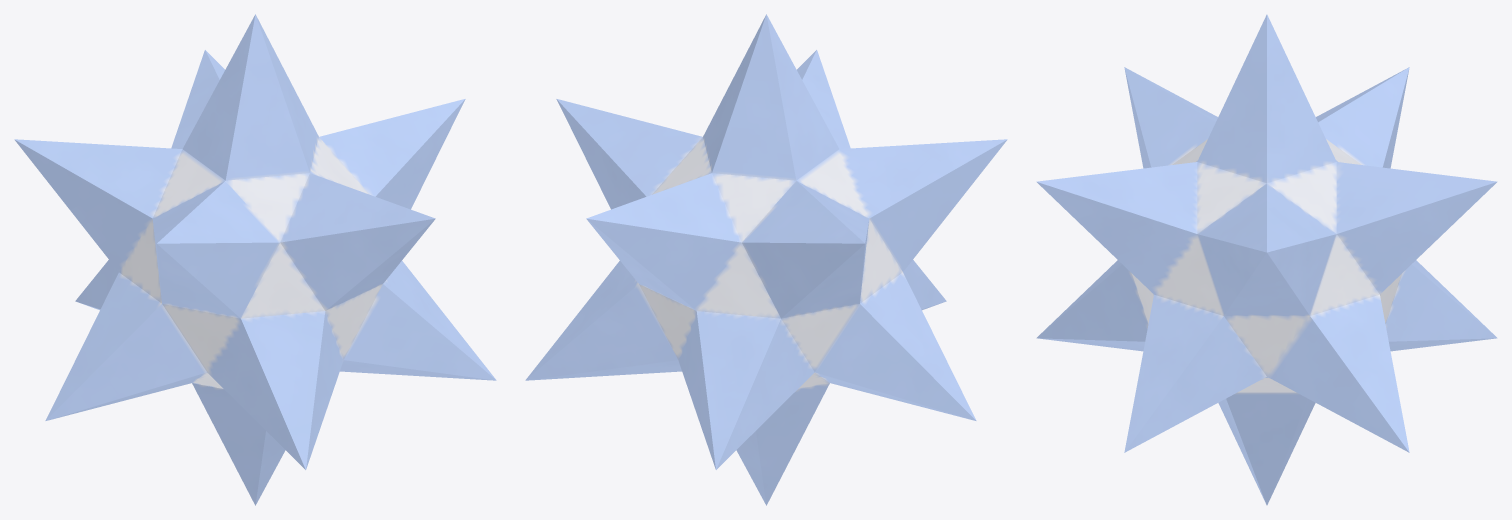
File: star-keel.glb
3 views of the same model, side by side, from view 1: azimuth 30°, elevation 25°; view 2: azimuth 150°, elevation 25°; view 3: azimuth 270°, elevation 25° (orthographic).
Parts seen in each view (by area): view 1: Star_Keel; view 2: Star_Keel; view 3: Star_Keel.
Boxes of the visible parts, x1,y1,x2,y2 form: Star_Keel: (14, 14, 496, 505); Star_Keel: (525, 14, 1007, 505); Star_Keel: (1036, 14, 1497, 505).
Size of the model in its own units: 3.13 by 3.5 by 2.98.
Materials: 1 (1 with a texture image).
